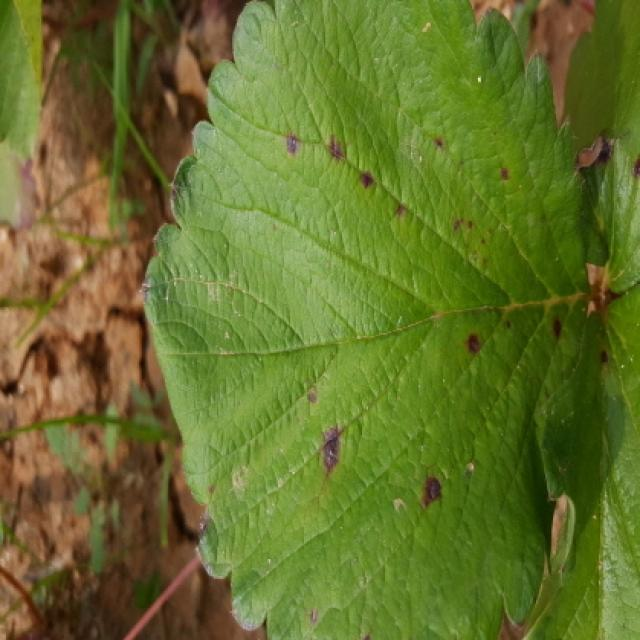Leaf Spot: (140, 0, 598, 638), (519, 291, 640, 638), (560, 0, 638, 293)
